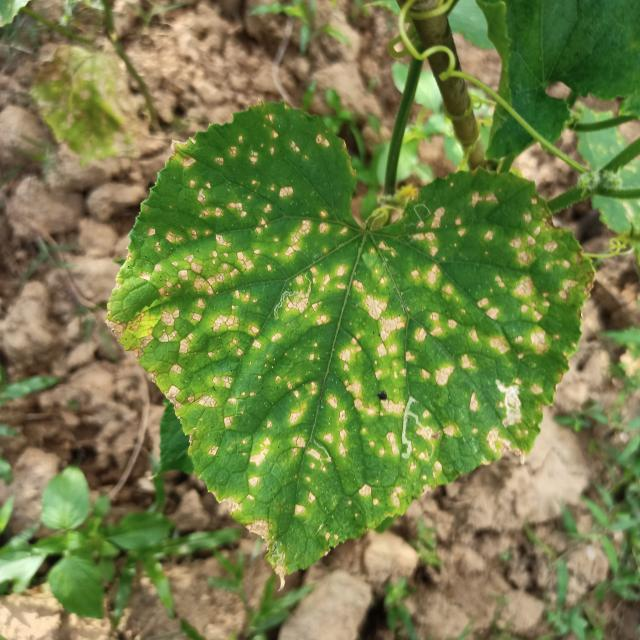disease_cucumber: (126, 119, 583, 562)
